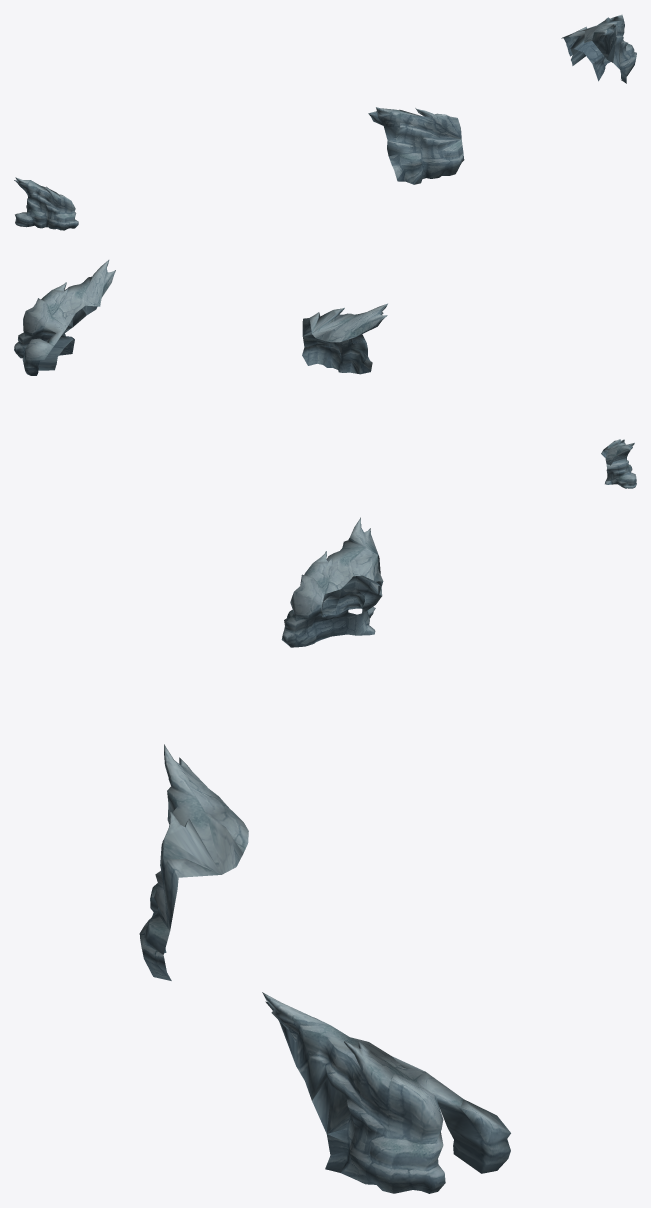
Rendered from yanshi21_1.fbx.
The picture shows the model from 3 angles, top to bottom: view 1: azimuth 30°, elevation 25°; view 2: azimuth 150°, elevation 25°; view 3: azimuth 270°, elevation 25°; orthographic projection. The views are drawn at different scales.
Visible parts, largest first — view 1: yanshi21_1; view 2: yanshi21_1; view 3: yanshi21_1.
Boxes of the visible parts, bbox=[...] form: yanshi21_1: bbox=[14, 14, 636, 230]; yanshi21_1: bbox=[14, 260, 636, 488]; yanshi21_1: bbox=[139, 517, 510, 1193].
Size of the model in its own units: 8273 by 1064 by 2208.
